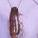cockroach: (9, 5, 20, 38)
